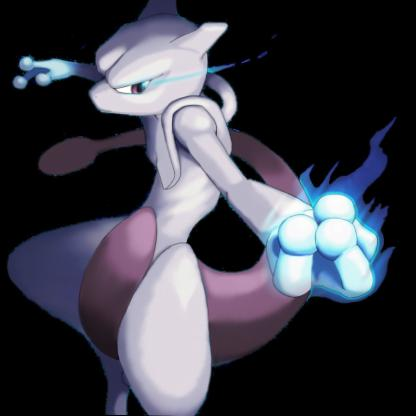Mewtwo: (1, 1, 416, 416), (1, 54, 416, 416)
